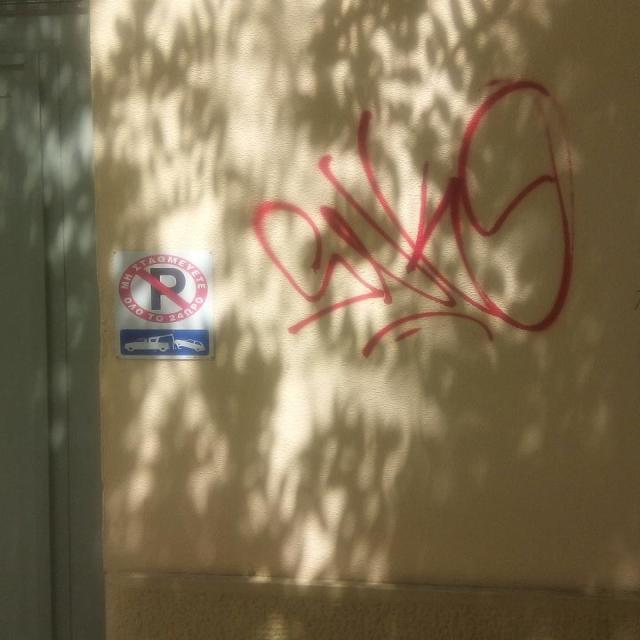nonspitting: (252, 68, 576, 356)
